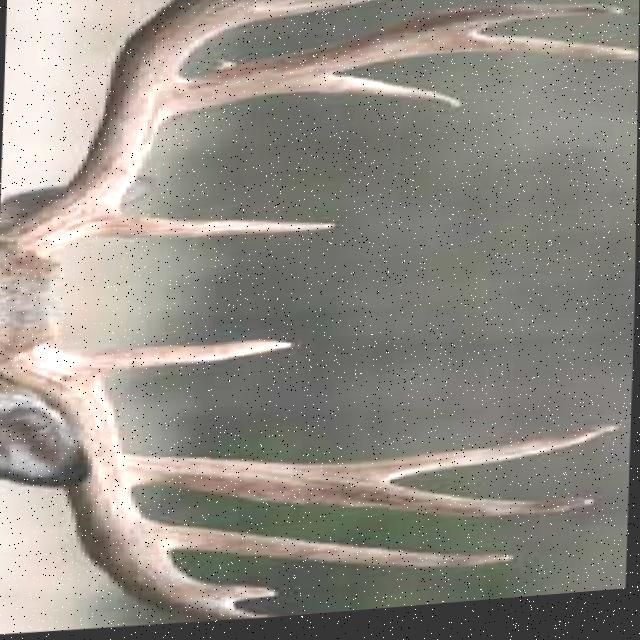E1: (302, 434, 623, 489)
E2: (408, 41, 639, 72)
E3: (199, 587, 281, 608)
L-F: (0, 0, 286, 262)
L-G1: (79, 208, 340, 243)
L-G2: (160, 11, 626, 121)
R-F: (0, 346, 312, 625)
R-G1: (64, 344, 295, 375)
R-G2: (123, 458, 597, 525)
R-G3: (144, 523, 513, 575)
